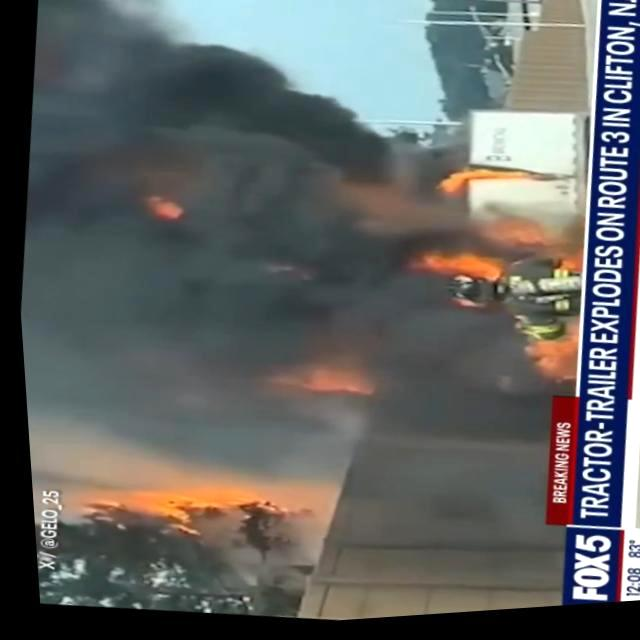fire: (82, 466, 278, 550), (404, 239, 504, 291)
